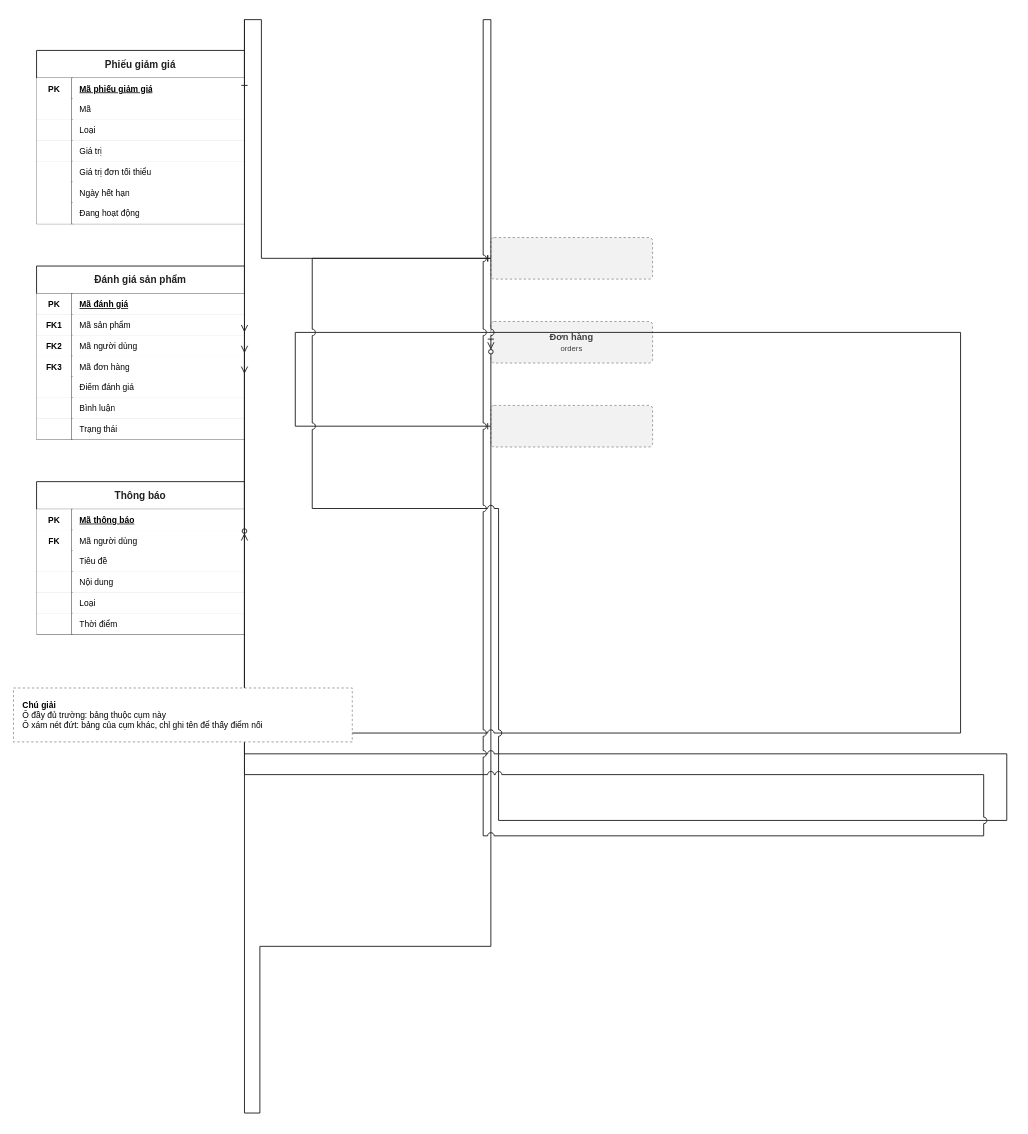
The diagram is 1028 pixels wide and 1134 high, and some of its shapes have lost their labels. Each missing label, with the centre of its shape:
Người dùng users: (x=571, y=258)
Sản phẩm products: (x=571, y=426)
